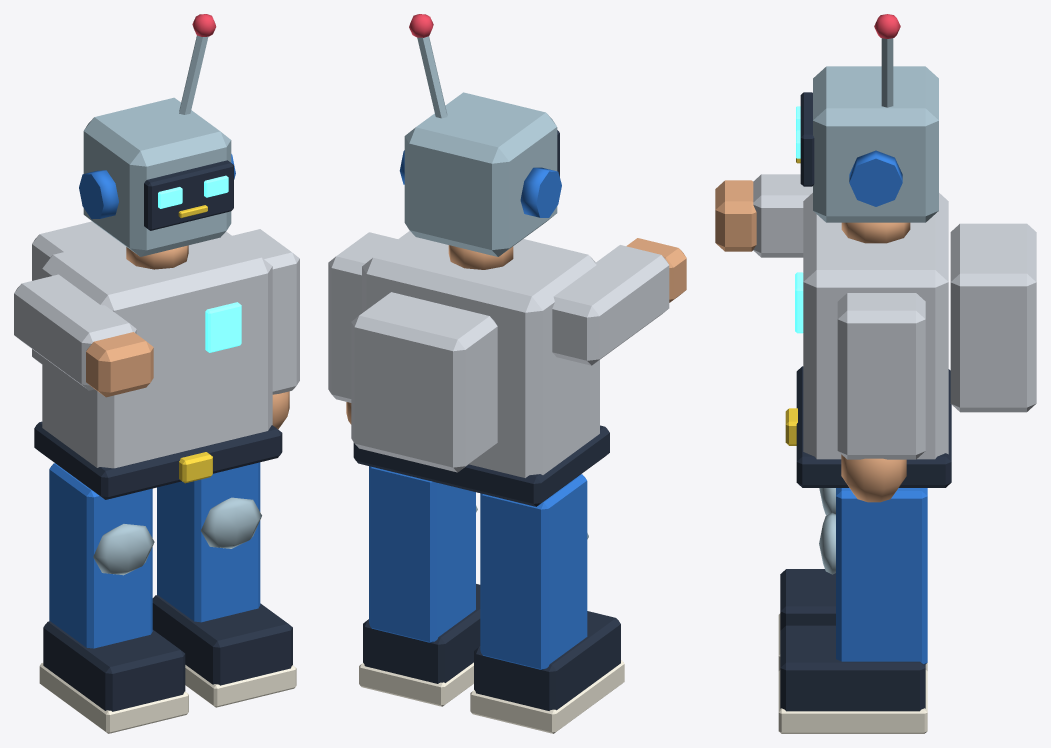
Rendered from fps_char_3.glb.
3 renders of one model, left to right at view 1: azimuth 30°, elevation 25°; view 2: azimuth 150°, elevation 25°; view 3: azimuth 270°, elevation 25°, orthographic. The views are drawn at different scales.
Parts seen in each view (by area): view 1: detail_Paint, detail_Blueberry, detail_Ink navy, head_core, detail_Vanilla plastic, detail_Toy silver, right_hand, detail_Visor glow, detail_Warm vinyl, detail_Lemon; view 2: detail_Paint, detail_Blueberry, head_core, detail_Ink navy, detail_Vanilla plastic, right_hand, detail_Warm vinyl, detail_Toy silver; view 3: detail_Paint, detail_Blueberry, detail_Ink navy, head_core, detail_Vanilla plastic, detail_Warm vinyl, right_hand, detail_Toy silver, detail_Visor glow.
Part boxes in pixels (left/top/right/bottom): detail_Paint: left=14, top=221, right=299, bottom=468; detail_Blueberry: left=49, top=154, right=260, bottom=648; detail_Ink navy: left=34, top=160, right=292, bottom=711; head_core: left=83, top=97, right=231, bottom=256; detail_Vanilla plastic: left=39, top=662, right=296, bottom=733; detail_Toy silver: left=93, top=35, right=261, bottom=575; right_hand: left=86, top=332, right=153, bottom=397; detail_Visor glow: left=158, top=175, right=241, bottom=352; detail_Warm vinyl: left=126, top=245, right=289, bottom=429; detail_Lemon: left=178, top=205, right=212, bottom=483; detail_Paint: left=328, top=231, right=669, bottom=477; detail_Blueberry: left=369, top=150, right=587, bottom=669; head_core: left=404, top=92, right=557, bottom=256; detail_Ink navy: left=353, top=130, right=620, bottom=710; detail_Vanilla plastic: left=359, top=660, right=624, bottom=733; right_hand: left=626, top=238, right=686, bottom=302; detail_Warm vinyl: left=346, top=245, right=513, bottom=424; detail_Toy silver: left=417, top=36, right=588, bottom=539; detail_Paint: left=753, top=174, right=1036, bottom=459; detail_Blueberry: left=836, top=150, right=927, bottom=664; detail_Ink navy: left=780, top=92, right=951, bottom=711; head_core: left=813, top=66, right=938, bottom=222; detail_Vanilla plastic: left=778, top=613, right=927, bottom=733; detail_Warm vinyl: left=841, top=222, right=910, bottom=502; right_hand: left=715, top=180, right=756, bottom=251; detail_Toy silver: left=819, top=38, right=893, bottom=574; detail_Visor glow: left=795, top=106, right=803, bottom=333.
Size of the model in its own units: 0.84 by 2.02 by 0.84.
